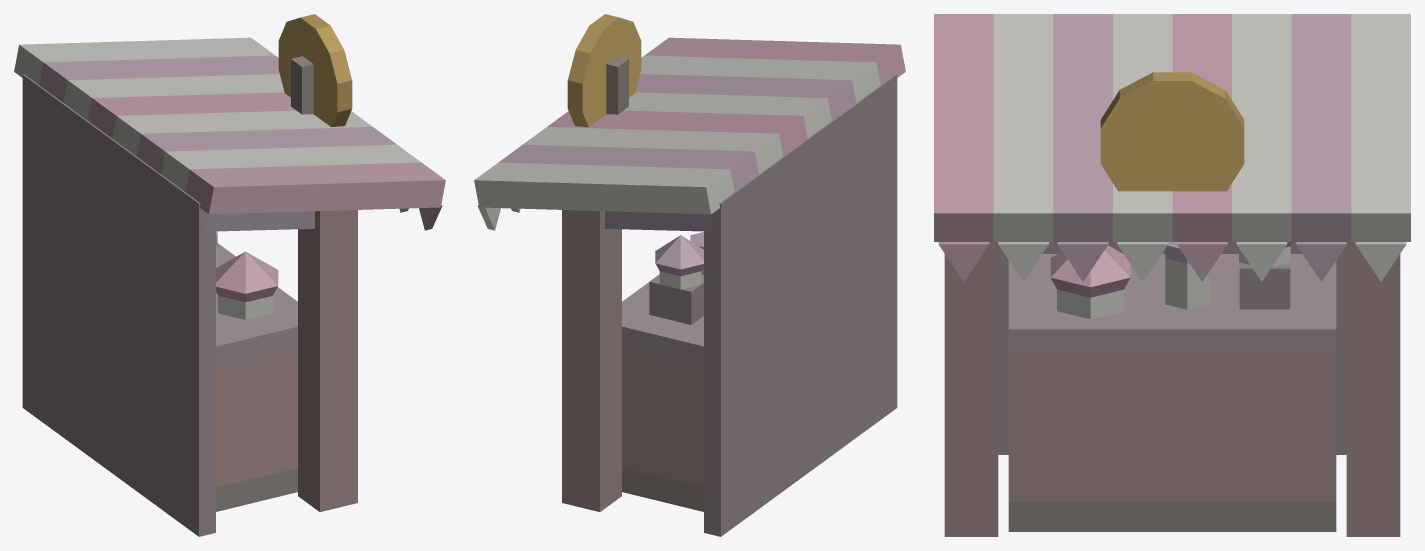
File: stall.glb
The picture shows the model from 3 angles, left to right: view 1: azimuth 30°, elevation 25°; view 2: azimuth 150°, elevation 25°; view 3: azimuth 270°, elevation 25°; orthographic projection. The views are drawn at different scales.
Parts seen in each view (by area): view 1: prop_stall; view 2: prop_stall; view 3: prop_stall.
Boxes of the visible parts, x1,y1,x2,y2 form: prop_stall: (14,14,445,536); prop_stall: (474,14,905,536); prop_stall: (934,14,1410,536).
Bounding box in the file's own units: 2.25 × 3.63 × 3.2.
